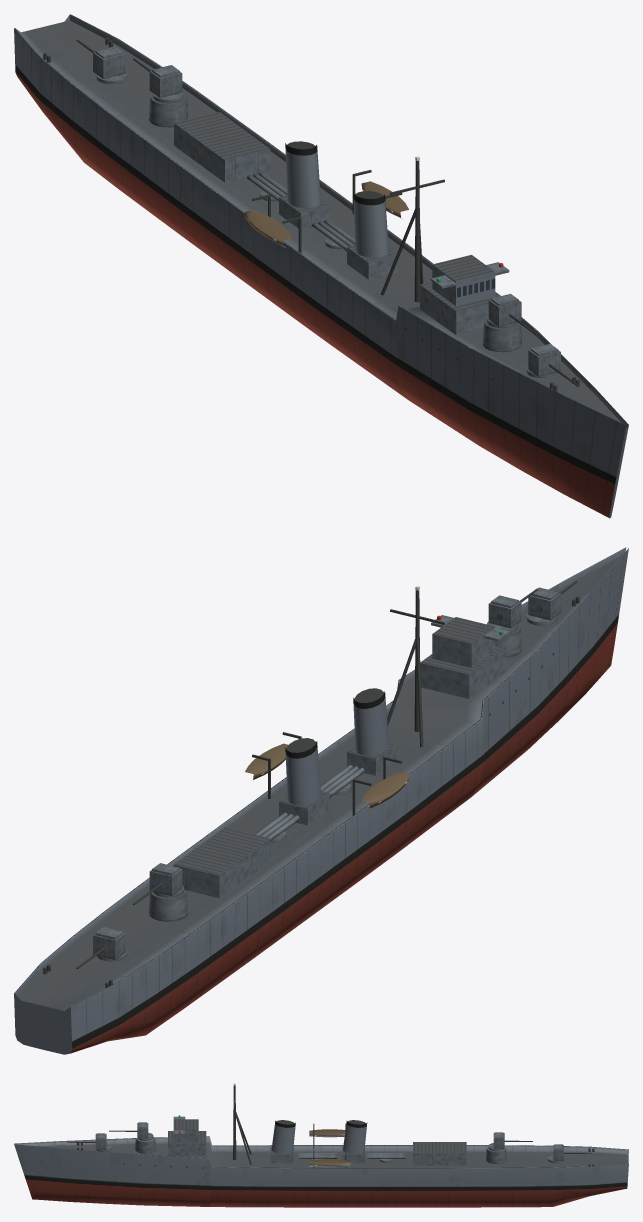
File: escort.glb
3 views of the same model, one above another, from view 1: azimuth 30°, elevation 25°; view 2: azimuth 150°, elevation 25°; view 3: azimuth 270°, elevation 25° (orthographic). The views are drawn at different scales.
Visible parts, largest first — view 1: hull, turret_3, turret_4, turret_2, turret_1, boat_right; view 2: hull, turret_1, turret_2, turret_3, turret_4, boat_right, boat_left; view 3: hull, boat_left, boat_right, turret_3, turret_1, turret_2, turret_4.
Boxes of the visible parts, bbox=[...] form: hull: bbox=[14, 14, 628, 518]; turret_3: bbox=[149, 65, 183, 103]; turret_4: bbox=[93, 46, 127, 84]; turret_2: bbox=[487, 293, 521, 328]; turret_1: bbox=[526, 344, 560, 377]; boat_right: bbox=[244, 210, 292, 247]; hull: bbox=[14, 547, 628, 1054]; turret_1: bbox=[526, 587, 560, 625]; turret_2: bbox=[487, 595, 521, 632]; turret_3: bbox=[149, 863, 183, 897]; turret_4: bbox=[93, 927, 127, 961]; boat_right: bbox=[361, 772, 409, 808]; boat_left: bbox=[245, 743, 288, 779]; hull: bbox=[14, 1083, 628, 1207]; boat_left: bbox=[309, 1159, 350, 1167]; boat_right: bbox=[309, 1129, 345, 1137]; turret_3: bbox=[488, 1132, 504, 1151]; turret_1: bbox=[95, 1133, 111, 1151]; turret_2: bbox=[137, 1122, 153, 1140]; turret_4: bbox=[547, 1144, 563, 1162].
Size of the model in its own units: 15.25 by 23.47 by 113.
Materials: 5 (5 with a texture image).
